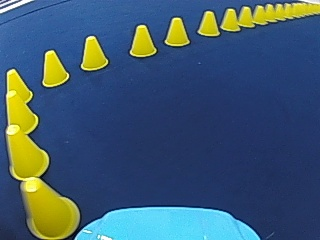cone: (19, 178, 77, 237), (4, 126, 50, 178), (4, 86, 40, 132), (40, 48, 69, 86), (79, 34, 108, 70), (129, 23, 157, 57), (5, 68, 32, 102), (163, 15, 189, 46), (196, 10, 219, 36), (220, 7, 239, 31), (237, 5, 253, 26), (252, 5, 267, 24), (264, 3, 275, 20), (274, 3, 285, 19), (285, 3, 292, 17)
